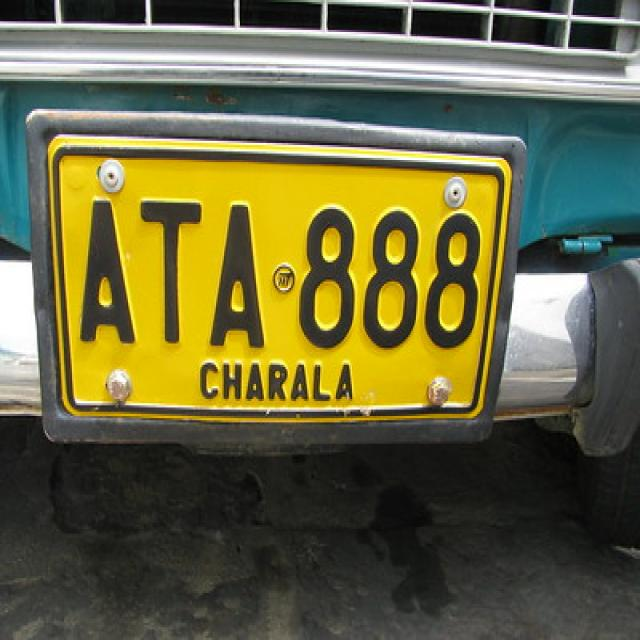placa_carro: (50, 129, 507, 431)
